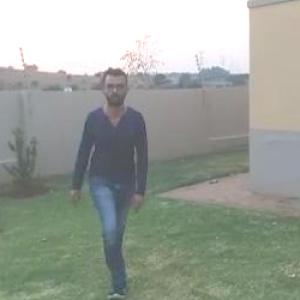follow: (78, 60, 146, 299)
